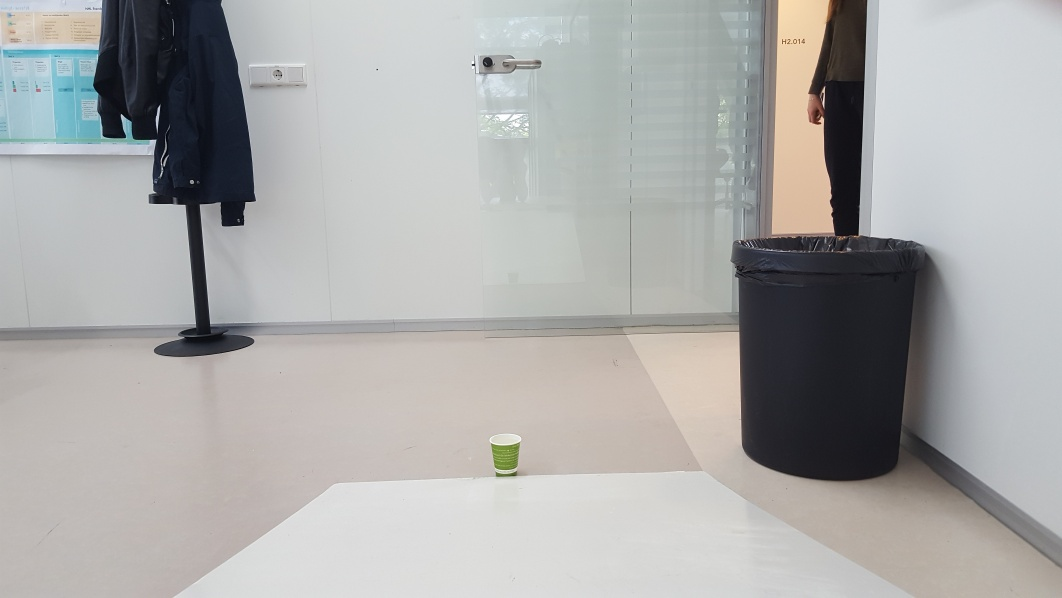cup: (487, 431, 525, 478)
